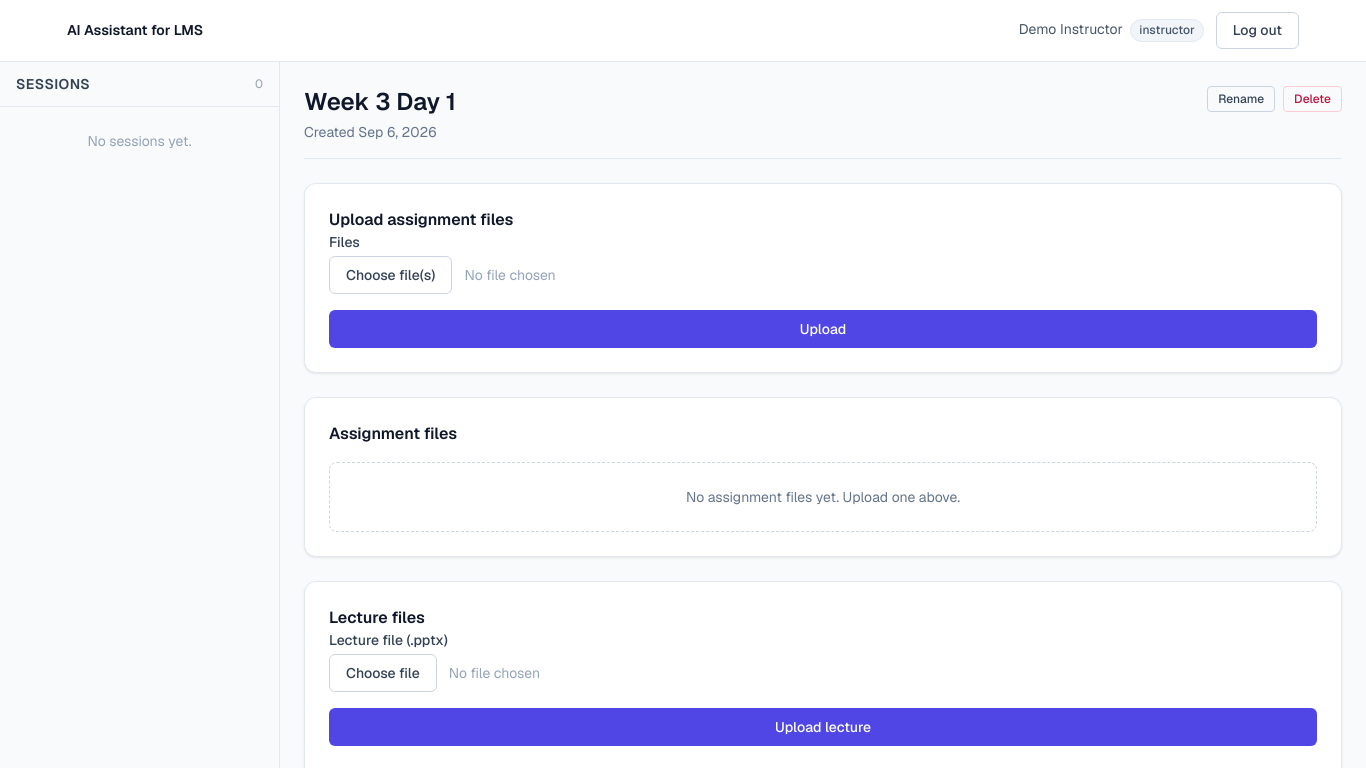
Test case: <SessionDetail /> — rename and delete (restored after the 7.8 shell dropped them) › renames a session and reflects the new title in the header
Expected: the heading "Week 3 Day 1" is shown, [304,86,456,118]
Click the button "Rename" at (1241, 99), box [1207,86,1275,112]
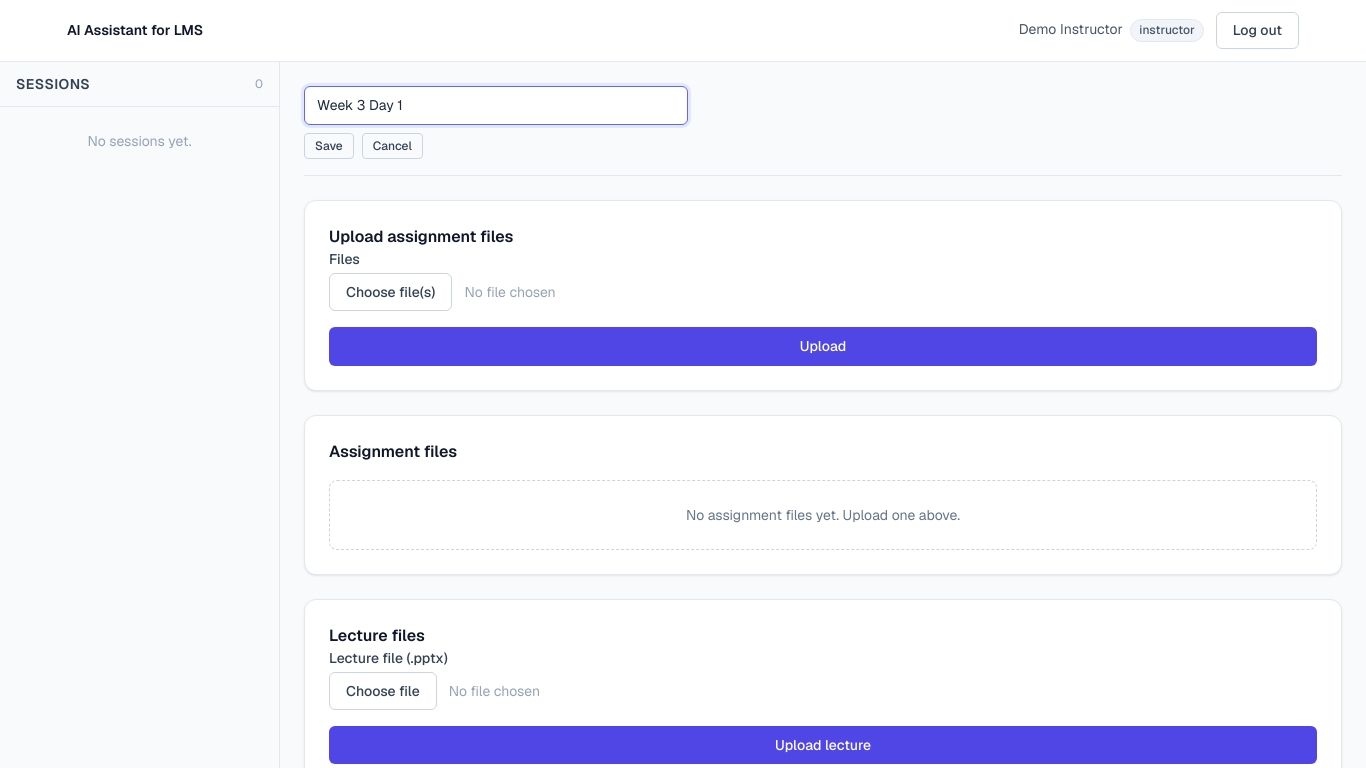
Replace the text in the field named "rename \"week 3 day 1\"" with "Week 3 Day 1 (renamed)" at (496, 106), box [304,86,688,126]
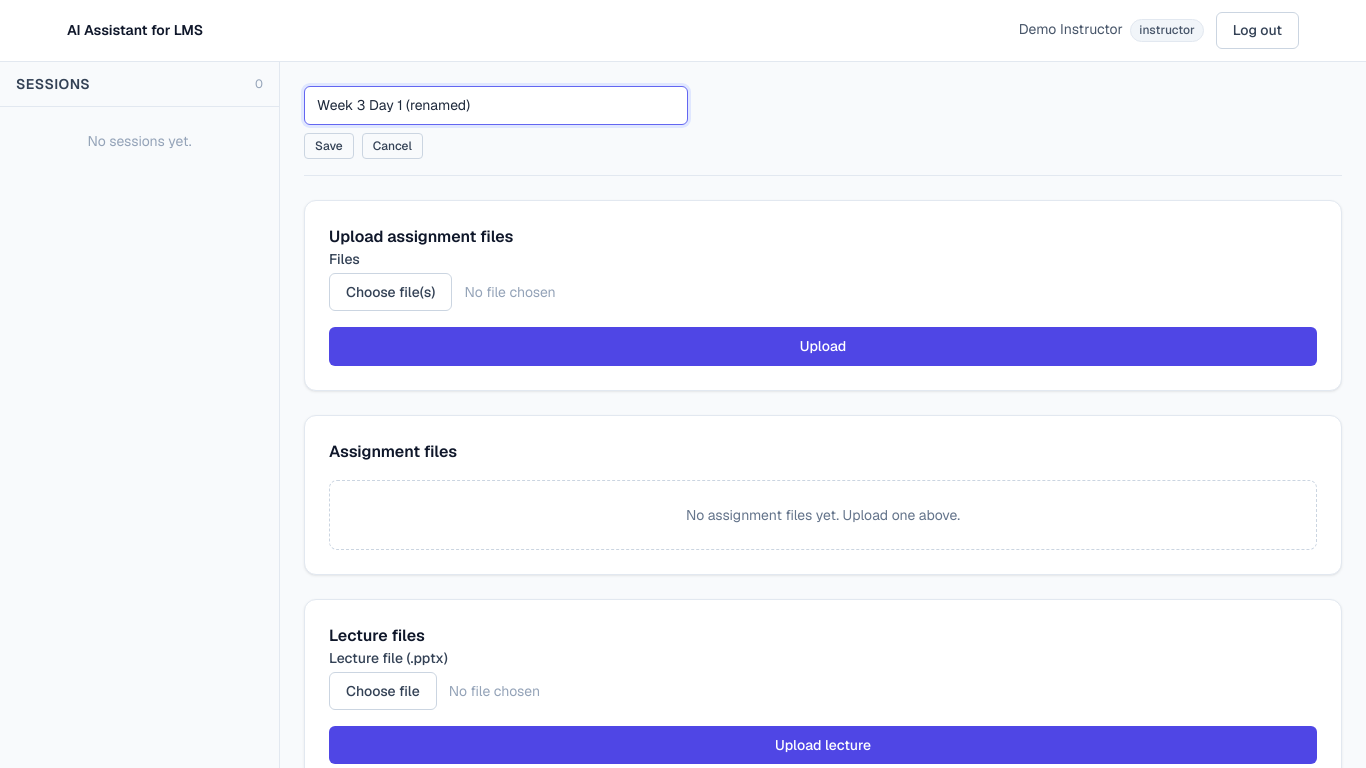
Click the button "Save" at (329, 146), box [304,133,354,159]
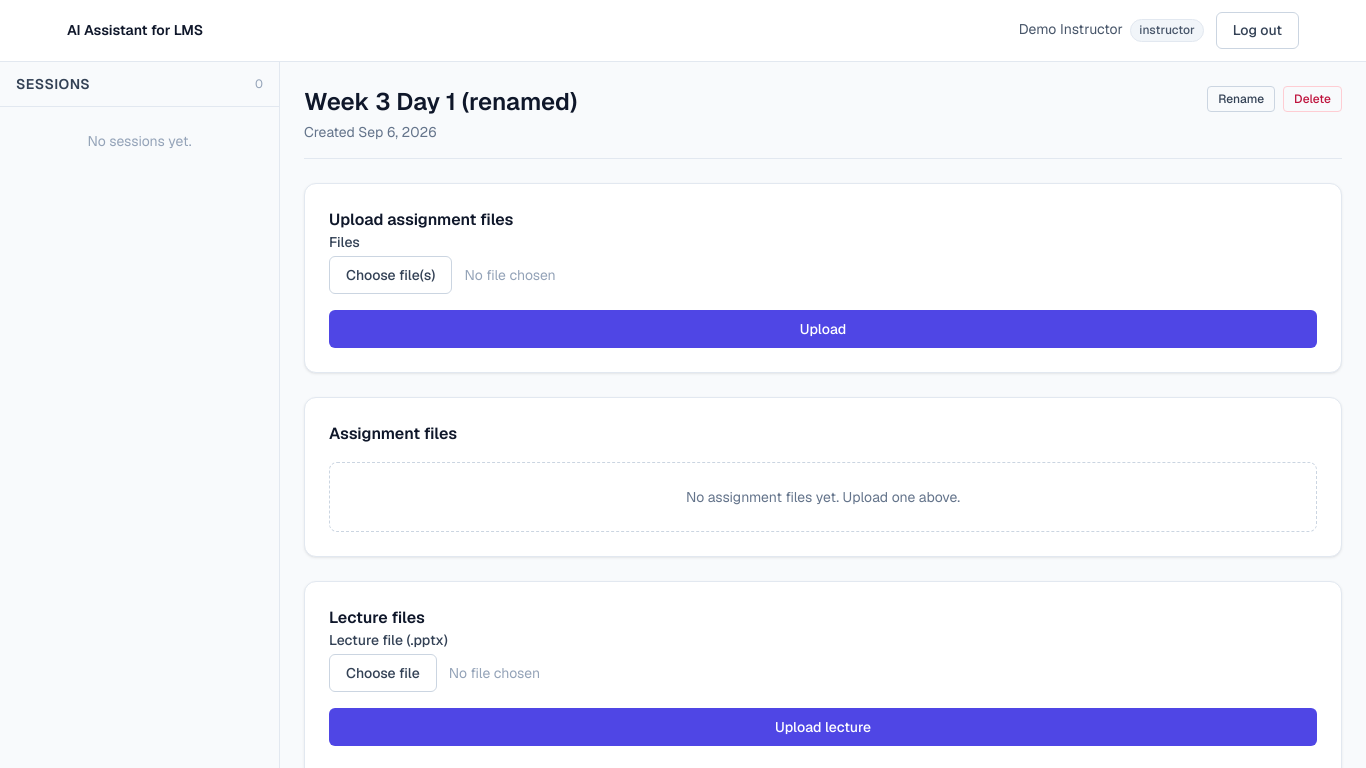
Expected: the heading "Week 3 Day 1 (renamed)" is shown, [304,86,577,118]
